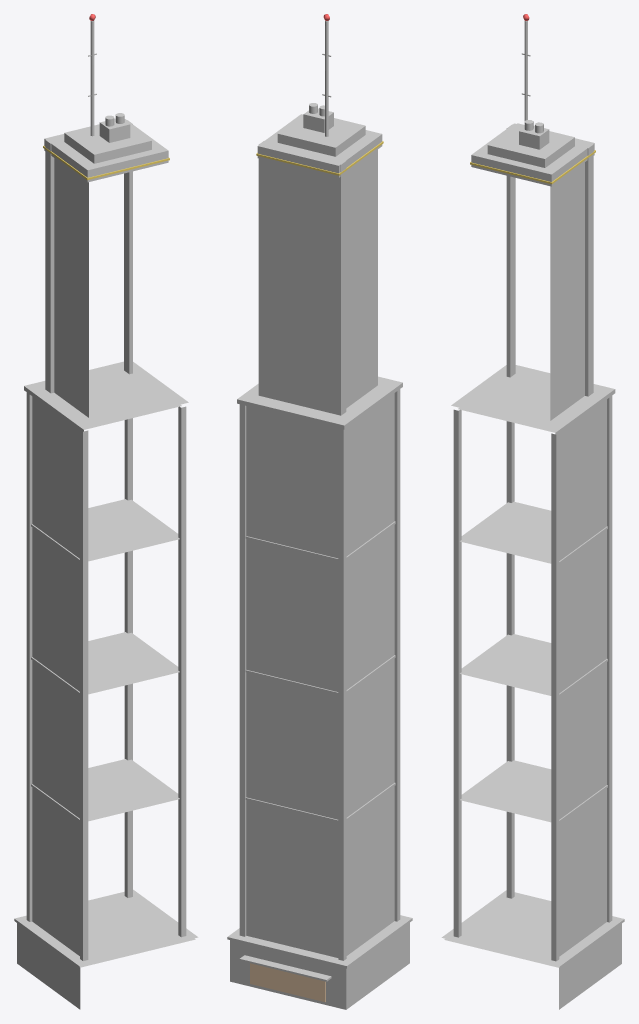
File: NightTowerA.glb
3 renders of one model, left to right at view 1: azimuth 30°, elevation 25°; view 2: azimuth 150°, elevation 25°; view 3: azimuth 330°, elevation 25°, orthographic.
Visible parts, largest first — view 1: Body; view 2: Body, Warm; view 3: Body.
Part boxes in pixels (<box>): Body: <box>14,20,198,1009</box>; Body: <box>227,20,412,1009</box>; Warm: <box>250,963,325,1002</box>; Body: <box>441,21,624,1009</box>.
Bounding box in the file's own units: 41.2 × 317 × 41.6.
